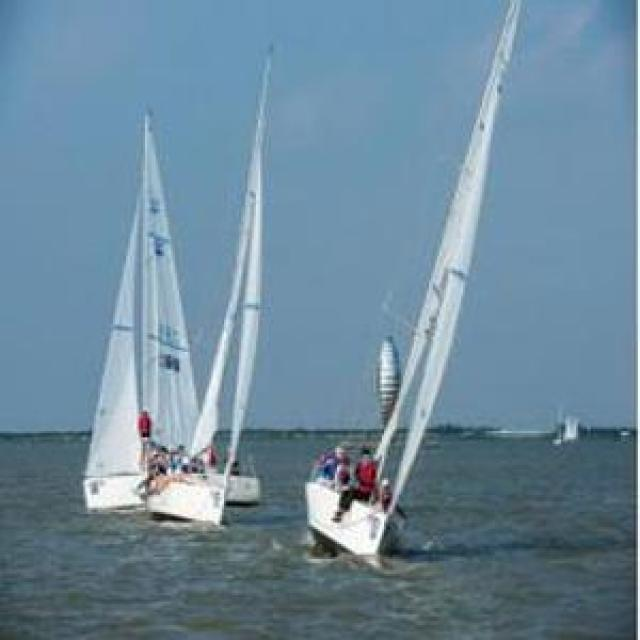sailboat: (307, 3, 521, 581), (83, 106, 253, 503), (151, 54, 270, 516)
